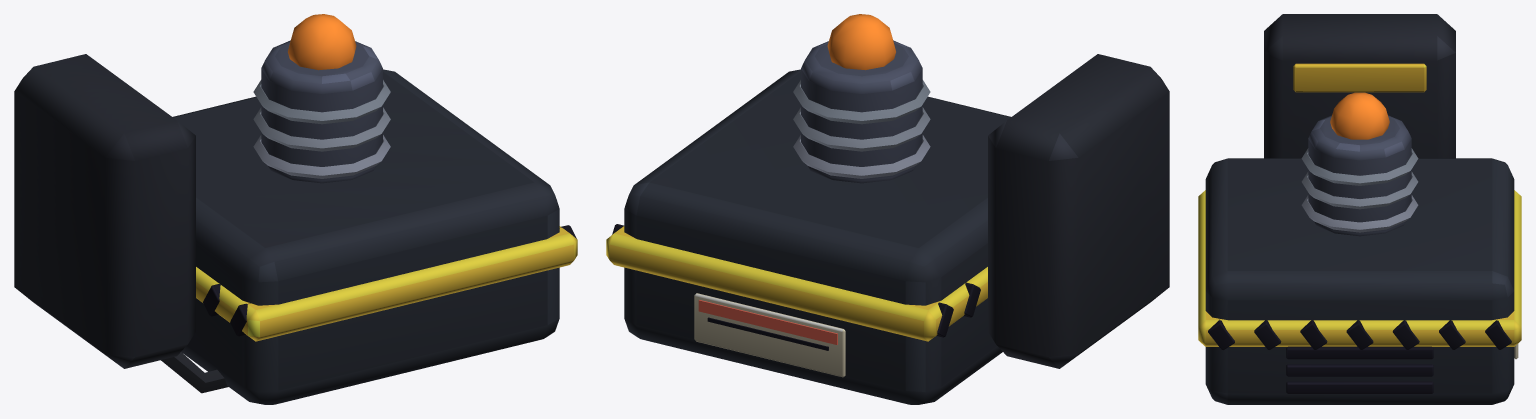
Rendered from SM_Fx_PyroFountain.fbx.
3 views of the same model, side by side, from view 1: azimuth 30°, elevation 25°; view 2: azimuth 150°, elevation 25°; view 3: azimuth 270°, elevation 25° (orthographic). The views are drawn at different scales.
Parts seen in each view (by area): view 1: SM_Fx_PyroFountain; view 2: SM_Fx_PyroFountain; view 3: SM_Fx_PyroFountain.
Boxes of the visible parts, bbox=[...] form: SM_Fx_PyroFountain: bbox=[14, 14, 577, 404]; SM_Fx_PyroFountain: bbox=[606, 14, 1169, 404]; SM_Fx_PyroFountain: bbox=[1198, 14, 1521, 404].
Bounding box in the file's own units: 57.3 × 38.09 × 44.04.
